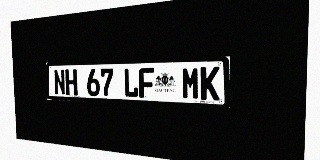6: (86, 69, 100, 96)
7: (100, 68, 114, 97)
F: (139, 68, 154, 98)
H: (65, 69, 78, 96)
K: (200, 66, 220, 100)
L: (123, 68, 139, 98)
M: (182, 67, 200, 100)
N: (53, 69, 66, 95)
